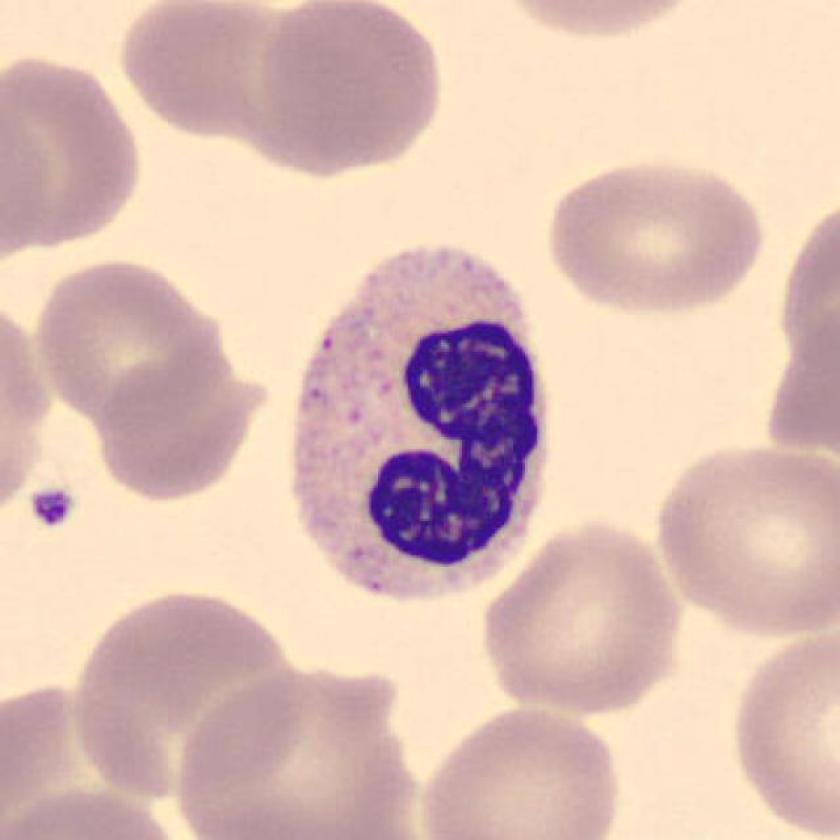neutrophil: (294, 245, 548, 597)
